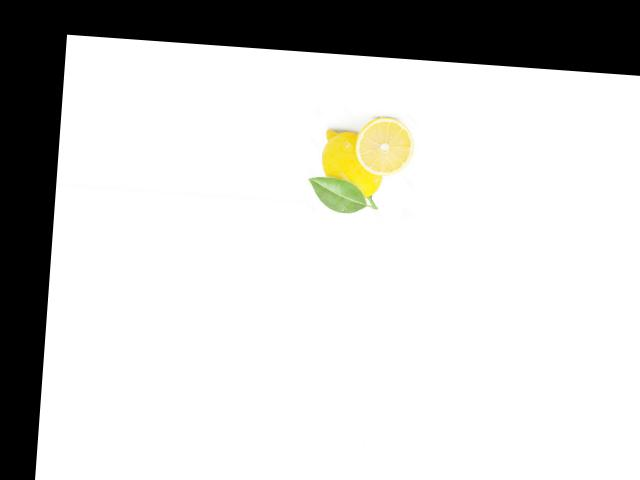lemon: (315, 125, 389, 209)
